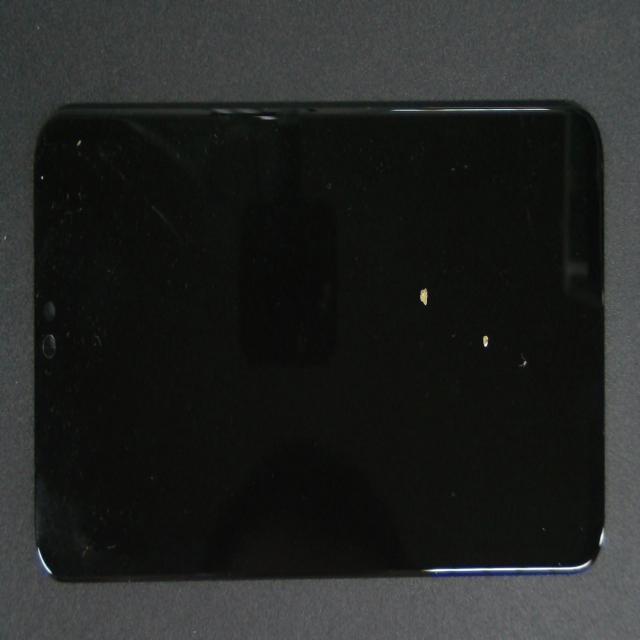stain: (248, 134, 640, 466), (214, 104, 619, 410)
